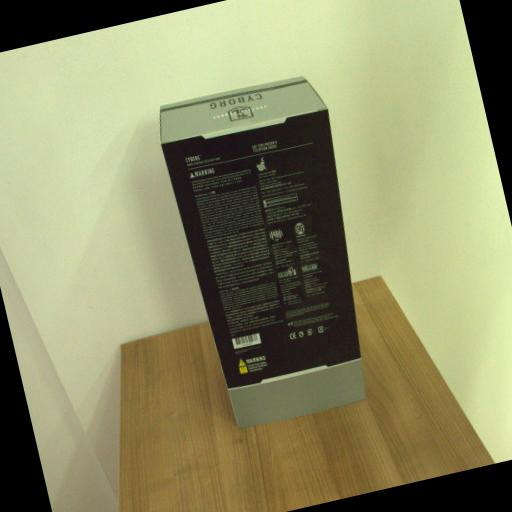Cyborg: (152, 66, 395, 434)
